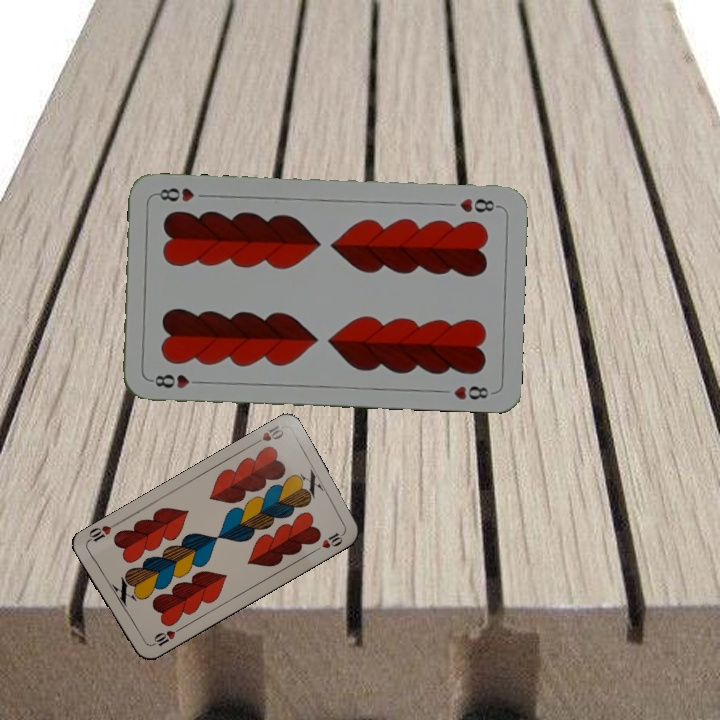H10: (248, 421, 286, 448), (146, 624, 183, 649)
H8: (146, 370, 205, 391), (456, 194, 502, 215)
